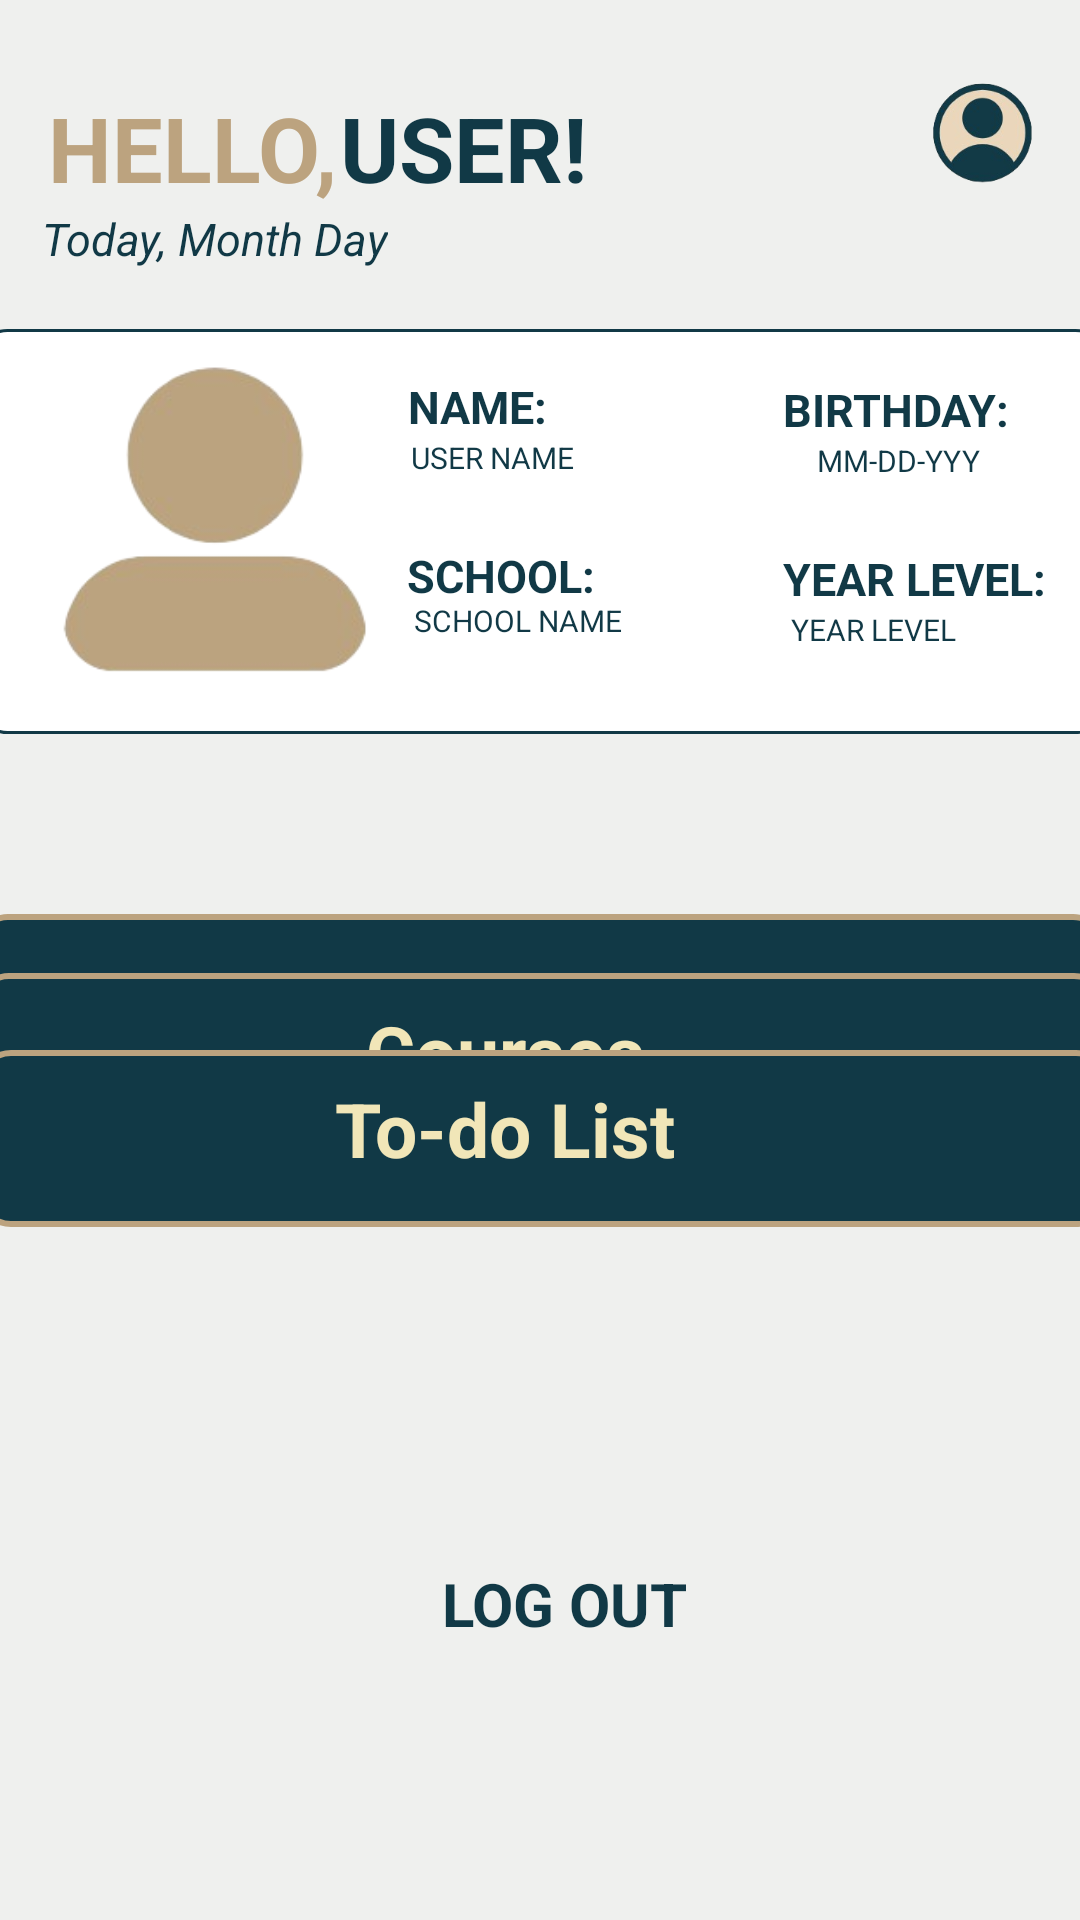

Screen size 1080 × 1920. Icon name, then its box in pixels as (x1, y1, x2, y2):
profile: (933, 83, 1032, 183)
